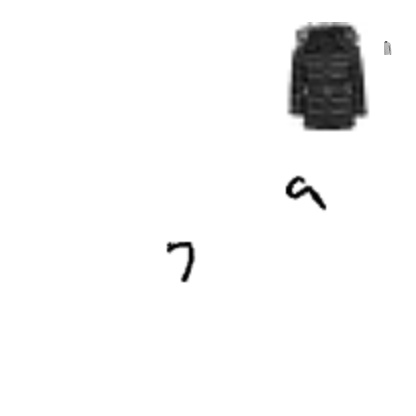7: (155, 228, 211, 284)
9: (276, 164, 332, 220)
Coat: (272, 22, 384, 134)
Shirt: (379, 41, 393, 55)
